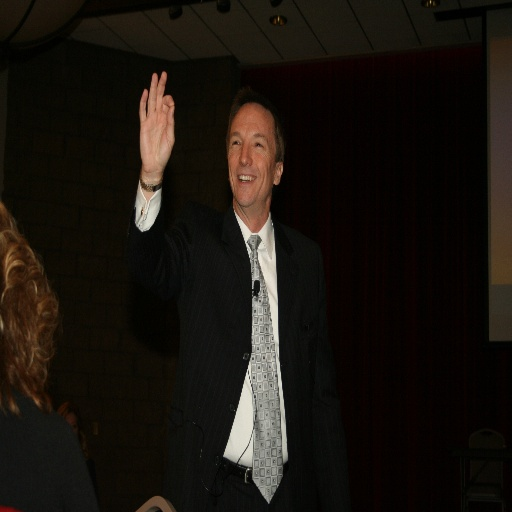hand: (131, 68, 182, 199)
